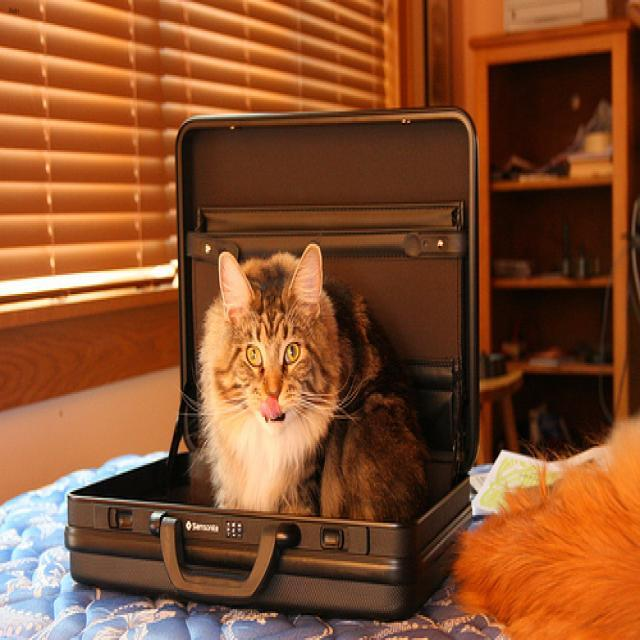Maine_Coon: (209, 235, 344, 441)
